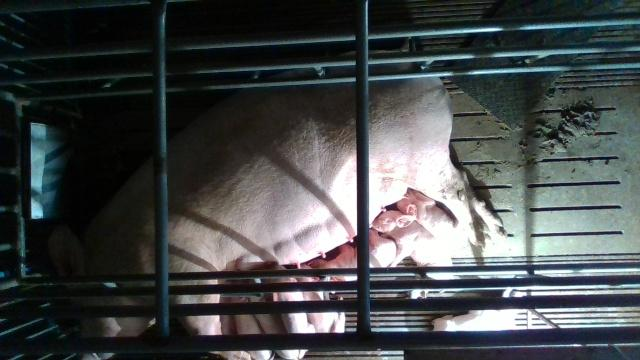piglet: (371, 210, 454, 279), (306, 229, 398, 281), (248, 285, 310, 360), (398, 186, 466, 252), (265, 261, 314, 334), (235, 281, 275, 360)
sow-sleep-lactate: (51, 50, 511, 360)
